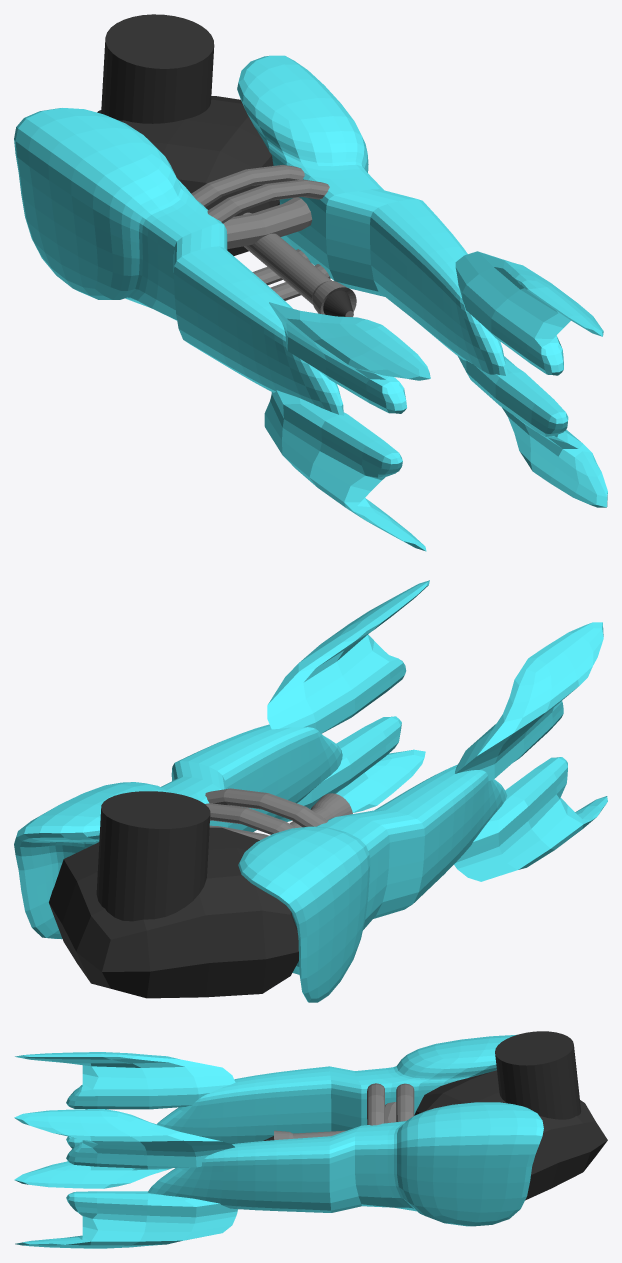
Rendered from Sniper_Cannon.fbx.
3 views of the same model, one above another, from view 1: azimuth 30°, elevation 25°; view 2: azimuth 150°, elevation 25°; view 3: azimuth 270°, elevation 25° (orthographic). The views are drawn at different scales.
Parts seen in each view (by area): view 1: Cube.001, Cylinder.008, Cube.002, Cylinder.007, Torus, Torus.005, Torus.004; view 2: Cube.001, Cube.002, Cylinder.008, Torus.005, Torus.004, Cylinder.007; view 3: Cube.001, Cylinder.008, Cube.002, Torus.005, Torus.004, Cylinder.007.
Part boxes in pixels (x1=…): Cube.001: x1=14, y1=55, x2=607, y2=551; Cylinder.008: x1=101, y1=14, x2=214, y2=123; Cube.002: x1=97, y1=96, x2=279, y2=255; Cylinder.007: x1=243, y1=212, x2=356, y2=316; Torus: x1=223, y1=197, x2=312, y2=249; Torus.005: x1=207, y1=179, x2=330, y2=300; Torus.004: x1=191, y1=165, x2=309, y2=285; Cube.001: x1=14, y1=580, x2=607, y2=1002; Cube.002: x1=49, y1=827, x2=298, y2=998; Cylinder.008: x1=96, y1=791, x2=210, y2=921; Torus.005: x1=205, y1=788, x2=327, y2=827; Torus.004: x1=205, y1=803, x2=295, y2=834; Cylinder.007: x1=289, y1=793, x2=352, y2=827; Cube.001: x1=14, y1=1034, x2=543, y2=1248; Cylinder.008: x1=495, y1=1031, x2=581, y2=1119; Cube.002: x1=414, y1=1070, x2=607, y2=1200; Torus.005: x1=367, y1=1083, x2=384, y2=1125; Torus.004: x1=396, y1=1083, x2=414, y2=1121; Cylinder.007: x1=263, y1=1130, x2=346, y2=1140.
Bounding box in the file's own units: 295 × 232 × 726.
